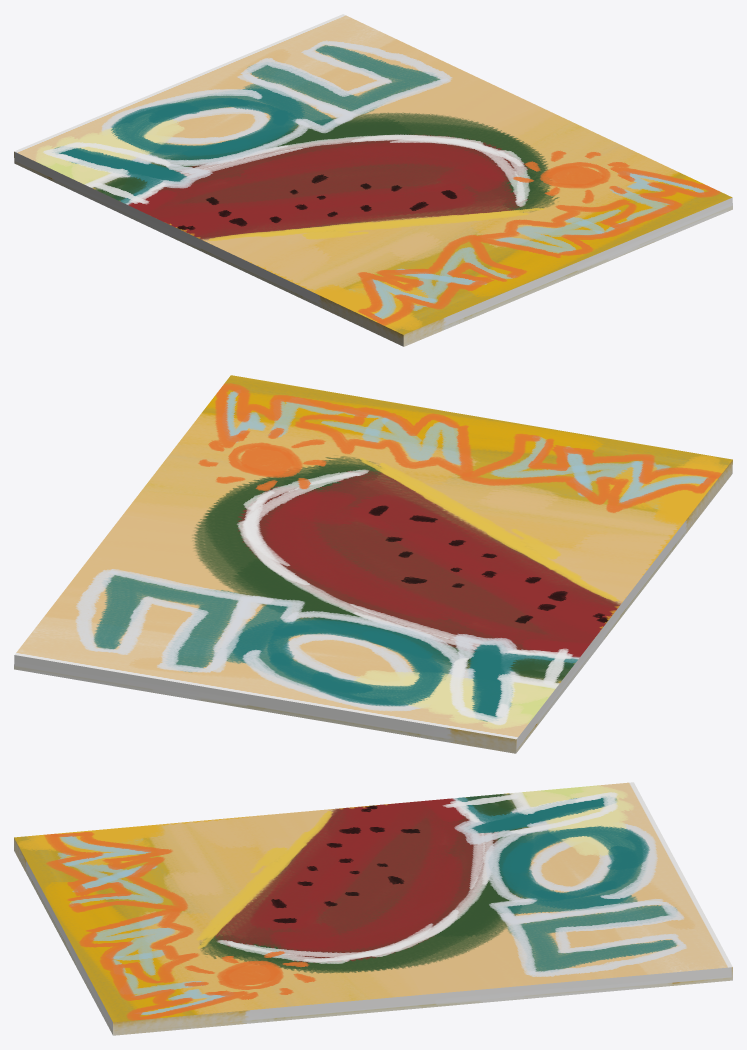
The model's file is LO_mag.glb.
The picture shows the model from 3 angles, top to bottom: view 1: azimuth 30°, elevation 25°; view 2: azimuth 150°, elevation 25°; view 3: azimuth 270°, elevation 25°; orthographic projection. The views are drawn at different scales.
Visible parts, largest first — view 1: Componente#33_001; view 2: Componente#33_001; view 3: Componente#33_001.
Boxes of the visible parts, box(x1,y1,x2,y2) form: Componente#33_001: box(14, 14, 732, 346); Componente#33_001: box(14, 375, 732, 753); Componente#33_001: box(14, 782, 732, 1035).
Bounding box in the file's own units: 0.2621 × 0.0129 × 0.3135.
1 material, 1 textured.
